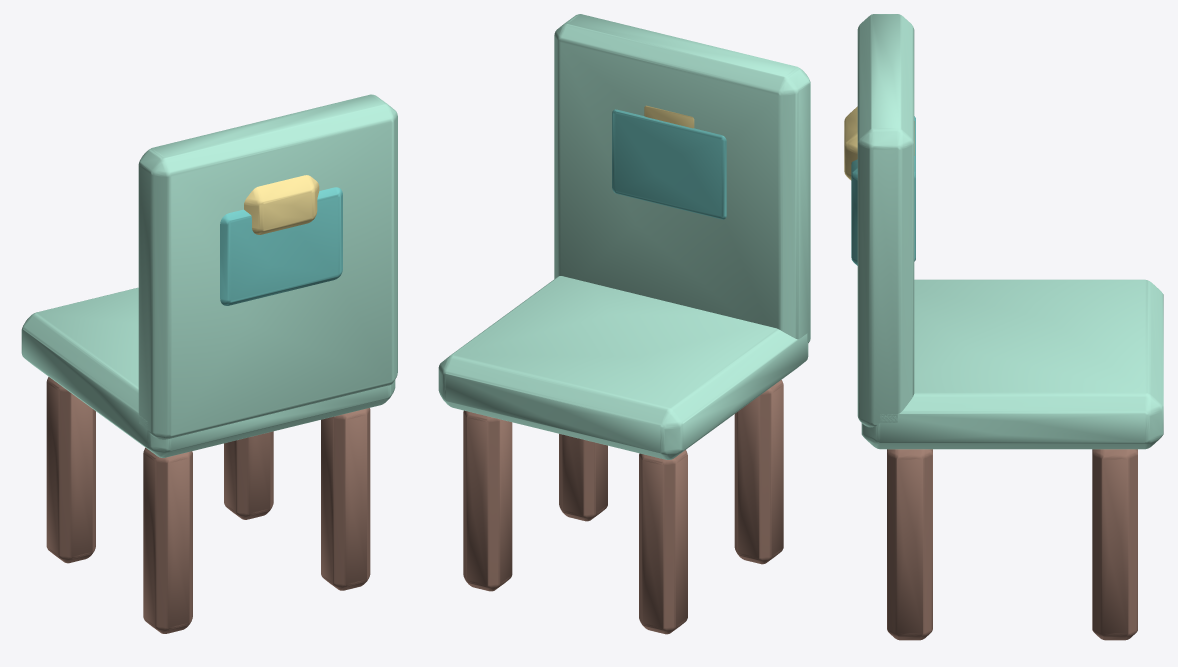
Rendered from dining_chair_mint.glb.
3 renders of one model, left to right at view 1: azimuth 30°, elevation 25°; view 2: azimuth 150°, elevation 25°; view 3: azimuth 270°, elevation 25°, orthographic. The views are drawn at different scales.
Visible parts, largest first — view 1: DiningChairMint_Back, DiningChairMint_Seat, DiningChairMint_BackInset, DiningChairMint_Leg_BL, DiningChairMint_Leg_BR, DiningChairMint_Leg_FL, DiningChairMint_Leg_FR, DiningChairMint_BackBadge; view 2: DiningChairMint_Back, DiningChairMint_Seat, DiningChairMint_BackInset, DiningChairMint_Leg_FR, DiningChairMint_Leg_FL, DiningChairMint_Leg_BL, DiningChairMint_Leg_BR, DiningChairMint_BackBadge; view 3: DiningChairMint_Seat, DiningChairMint_Back, DiningChairMint_Leg_BR, DiningChairMint_Leg_FR, DiningChairMint_BackInset, DiningChairMint_BackBadge.
Part boxes in pixels (<box>): DiningChairMint_Back: <box>138,94,397,439</box>; DiningChairMint_Seat: <box>21,287,395,457</box>; DiningChairMint_BackInset: <box>220,187,342,305</box>; DiningChairMint_Leg_BL: <box>143,447,192,633</box>; DiningChairMint_Leg_BR: <box>321,408,370,590</box>; DiningChairMint_Leg_FL: <box>46,377,95,563</box>; DiningChairMint_Leg_FR: <box>224,431,273,519</box>; DiningChairMint_BackBadge: <box>244,175,319,234</box>; DiningChairMint_Back: <box>554,14,810,342</box>; DiningChairMint_Seat: <box>438,276,808,459</box>; DiningChairMint_BackInset: <box>612,109,726,219</box>; DiningChairMint_Leg_FR: <box>463,410,512,591</box>; DiningChairMint_Leg_FL: <box>639,450,687,634</box>; DiningChairMint_Leg_BL: <box>734,380,783,564</box>; DiningChairMint_Leg_BR: <box>559,434,607,521</box>; DiningChairMint_BackBadge: <box>644,105,694,128</box>; DiningChairMint_Seat: <box>861,279,1163,449</box>; DiningChairMint_Back: <box>857,14,914,427</box>; DiningChairMint_Leg_BR: <box>887,449,932,640</box>; DiningChairMint_Leg_FR: <box>1092,449,1137,640</box>; DiningChairMint_BackInset: <box>851,116,915,265</box>; DiningChairMint_BackBadge: <box>844,106,914,180</box>.
Bounding box in the file's own units: 0.56 × 1.06 × 0.592.
